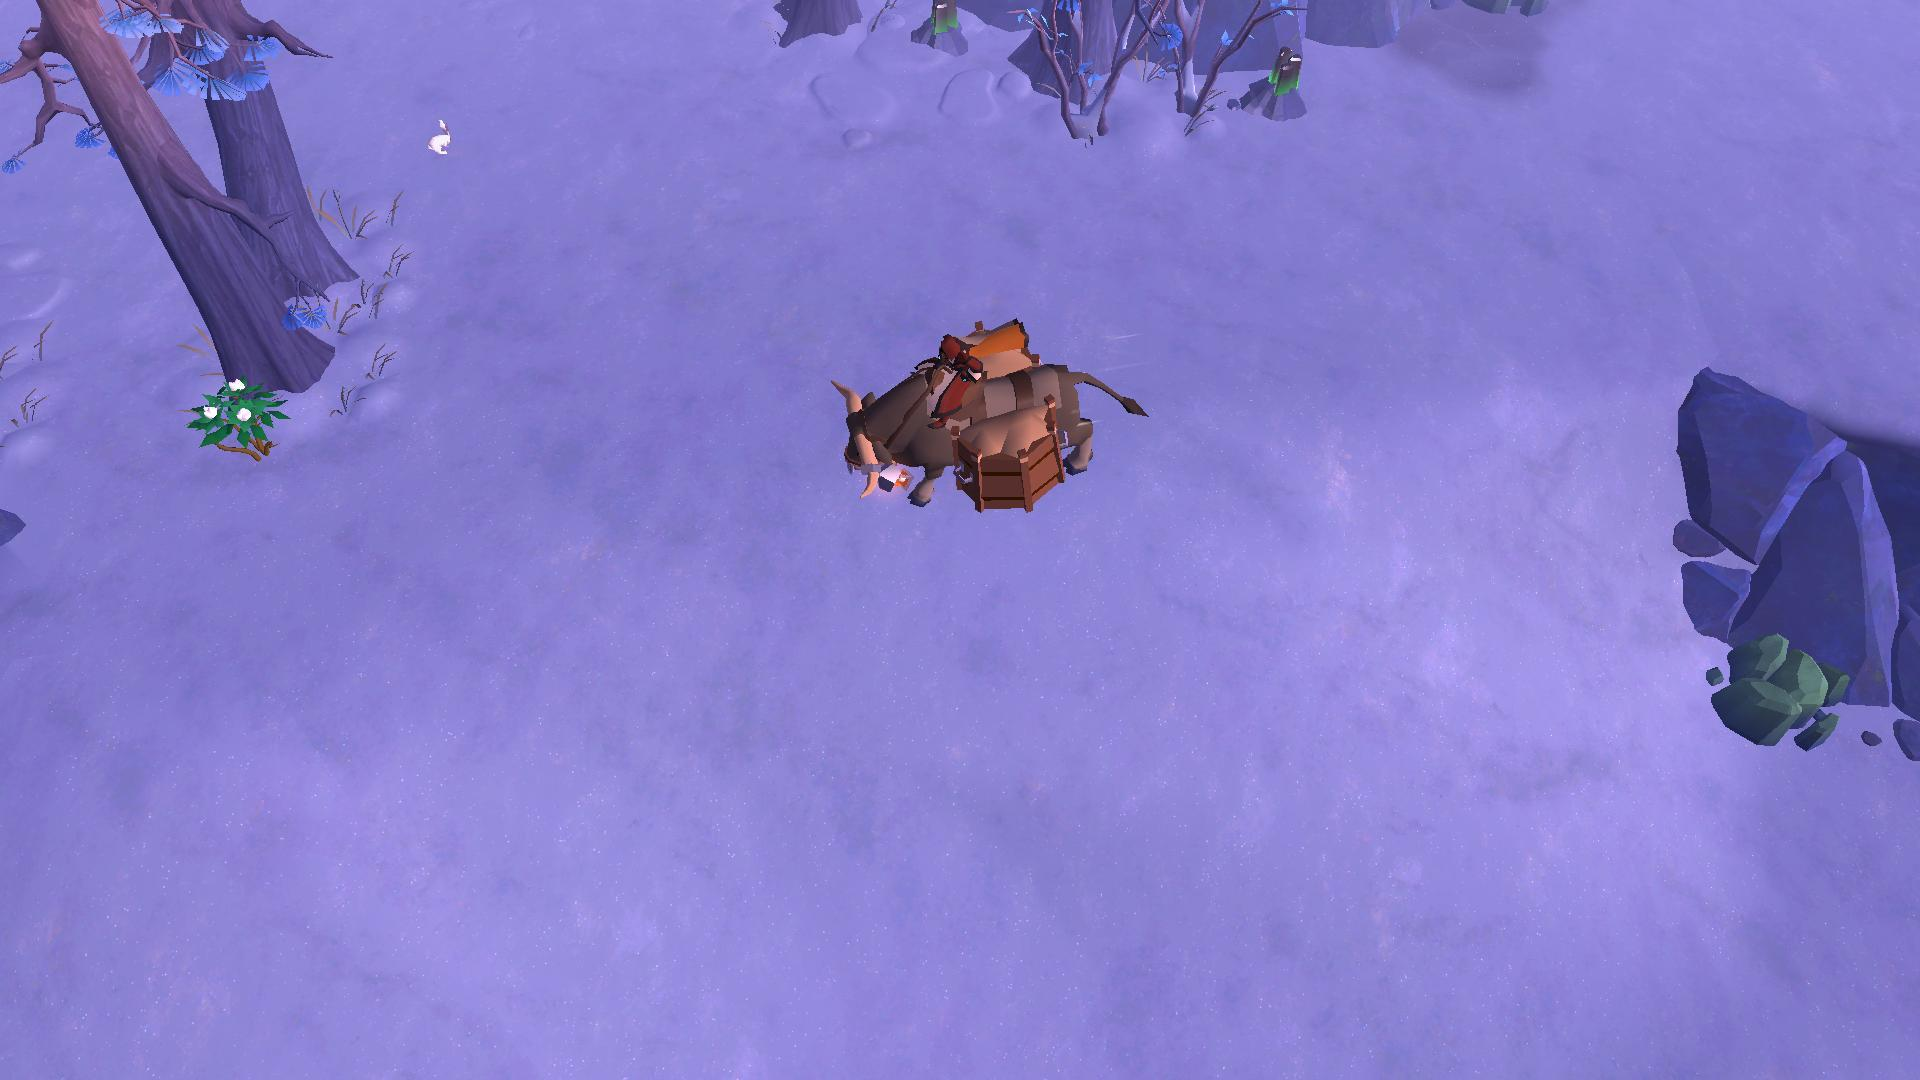fiber_t3: (194, 373, 282, 464)
ore_t3: (1263, 47, 1308, 99), (924, 0, 956, 45)
rock_t3: (1691, 625, 1865, 765)
